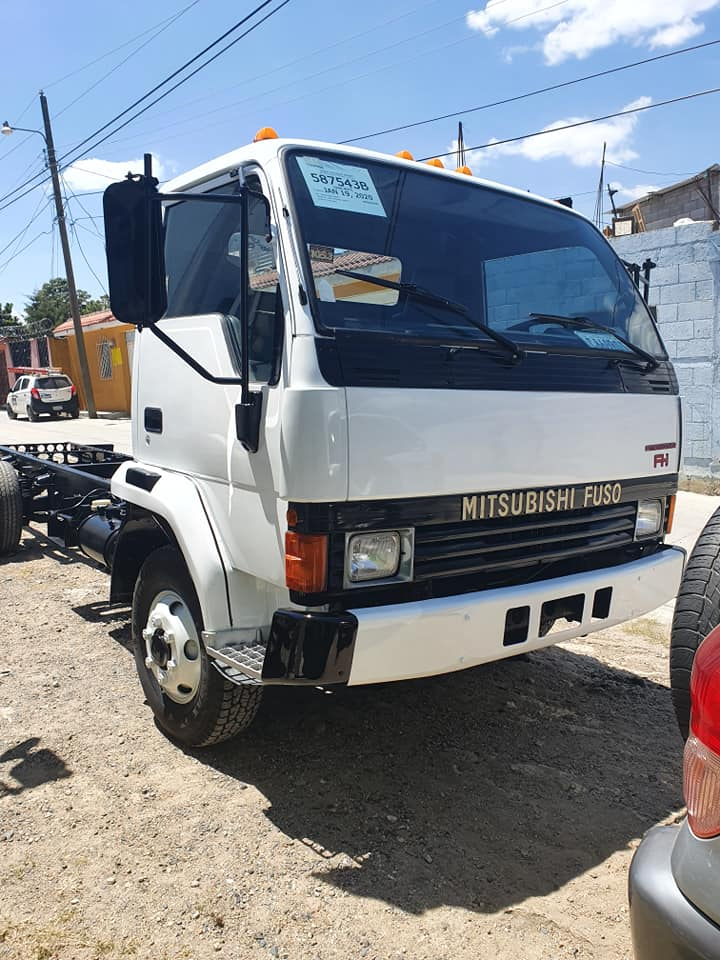camion: (8, 130, 677, 742)
